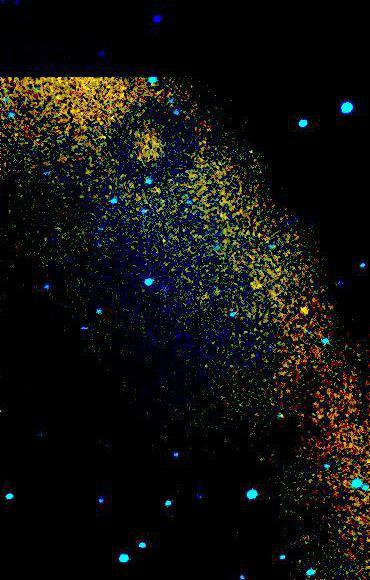star: (290, 296, 320, 326)
